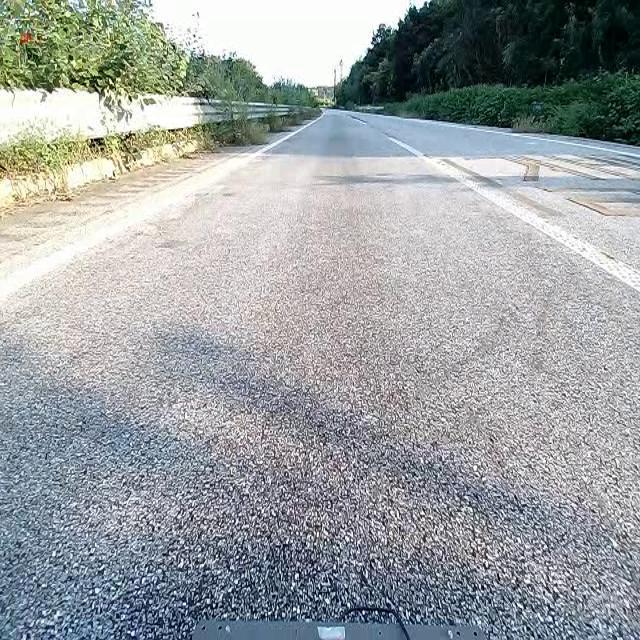Lane: (0, 110, 332, 305), (0, 114, 324, 304), (342, 97, 637, 294), (342, 102, 639, 294)
